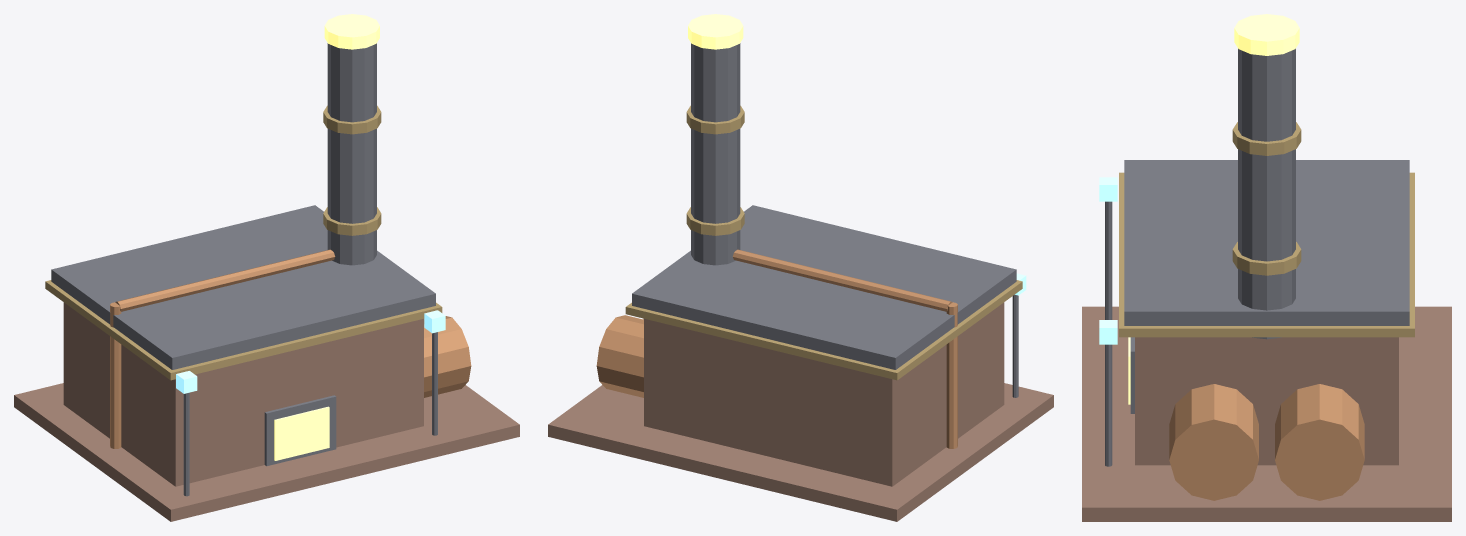
Rendered from gearforge_boiler_house.glb.
3 views of the same model, side by side, from view 1: azimuth 30°, elevation 25°; view 2: azimuth 150°, elevation 25°; view 3: azimuth 270°, elevation 25° (orthographic). The views are drawn at different scales.
Parts seen in each view (by area): view 1: gearforge_boiler_house_hall, gearforge_boiler_house_roof, gearforge_boiler_house_pad, gearforge_boiler_house_chimney, gearforge_boiler_house_roof_trim, gearforge_boiler_house_pipe_h, gearforge_boiler_house_tank_0, gearforge_boiler_house_furnace_mouth, gearforge_boiler_house_furnace_frame, gearforge_boiler_house_chimney_lip, gearforge_boiler_house_pipe_v, gearforge_boiler_house_chimney_band_a (+3 smaller); view 2: gearforge_boiler_house_hall, gearforge_boiler_house_roof, gearforge_boiler_house_pad, gearforge_boiler_house_chimney, gearforge_boiler_house_roof_trim, gearforge_boiler_house_tank_1, gearforge_boiler_house_pipe_h, gearforge_boiler_house_chimney_lip, gearforge_boiler_house_pipe_v, gearforge_boiler_house_chimney_band_a, gearforge_boiler_house_chimney_band_b, gearforge_boiler_house_lamp_pole_-38; view 3: gearforge_boiler_house_roof, gearforge_boiler_house_pad, gearforge_boiler_house_hall, gearforge_boiler_house_chimney, gearforge_boiler_house_tank_0, gearforge_boiler_house_tank_1, gearforge_boiler_house_roof_trim, gearforge_boiler_house_chimney_lip, gearforge_boiler_house_chimney_band_b, gearforge_boiler_house_chimney_band_a, gearforge_boiler_house_lamp_pole_26, gearforge_boiler_house_lamp_pole_-38 (+2 smaller).
Part boxes in pixels (<box>): gearforge_boiler_house_hall: <box>63,302,423,486</box>; gearforge_boiler_house_roof: <box>51,205,435,369</box>; gearforge_boiler_house_pad: <box>14,383,519,521</box>; gearforge_boiler_house_chimney: <box>327,43,376,265</box>; gearforge_boiler_house_roof_trim: <box>45,280,442,380</box>; gearforge_boiler_house_pipe_h: <box>115,249,335,311</box>; gearforge_boiler_house_tank_0: <box>424,316,471,397</box>; gearforge_boiler_house_furnace_mouth: <box>274,406,329,460</box>; gearforge_boiler_house_furnace_frame: <box>264,395,336,466</box>; gearforge_boiler_house_chimney_lip: <box>324,14,379,49</box>; gearforge_boiler_house_pipe_v: <box>110,302,121,448</box>; gearforge_boiler_house_chimney_band_a: <box>323,207,381,235</box>; gearforge_boiler_house_hall: <box>644,302,1004,486</box>; gearforge_boiler_house_roof: <box>632,205,1016,369</box>; gearforge_boiler_house_pad: <box>548,383,1053,521</box>; gearforge_boiler_house_chimney: <box>691,43,740,265</box>; gearforge_boiler_house_roof_trim: <box>625,280,1022,380</box>; gearforge_boiler_house_tank_1: <box>596,315,643,397</box>; gearforge_boiler_house_pipe_h: <box>732,249,952,311</box>; gearforge_boiler_house_chimney_lip: <box>688,14,743,49</box>; gearforge_boiler_house_pipe_v: <box>946,302,957,448</box>; gearforge_boiler_house_chimney_band_a: <box>686,207,744,235</box>; gearforge_boiler_house_chimney_band_b: <box>686,105,744,134</box>; gearforge_boiler_house_lamp_pole_-38: <box>1012,294,1018,397</box>; gearforge_boiler_house_roof: <box>1124,160,1409,325</box>; gearforge_boiler_house_pad: <box>1082,306,1451,521</box>; gearforge_boiler_house_hall: <box>1135,337,1398,465</box>; gearforge_boiler_house_chimney: <box>1238,48,1295,339</box>; gearforge_boiler_house_tank_0: <box>1169,384,1258,500</box>; gearforge_boiler_house_tank_1: <box>1275,384,1364,500</box>; gearforge_boiler_house_roof_trim: <box>1119,172,1414,337</box>; gearforge_boiler_house_chimney_lip: <box>1234,14,1299,55</box>; gearforge_boiler_house_chimney_band_b: <box>1232,122,1301,155</box>; gearforge_boiler_house_chimney_band_a: <box>1232,242,1301,275</box>; gearforge_boiler_house_lamp_pole_26: <box>1105,344,1112,466</box>; gearforge_boiler_house_lamp_pole_-38: <box>1105,201,1112,319</box>.
Size of the model in its own units: 9 by 9.25 by 7.
